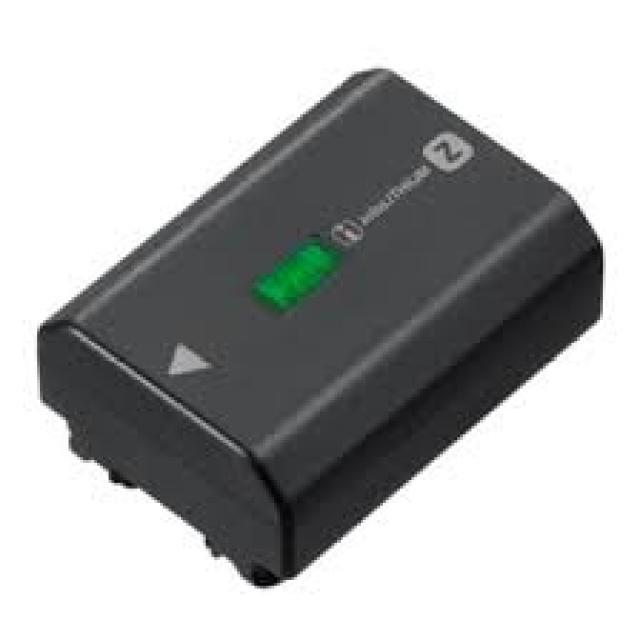battery: (26, 71, 603, 583)
